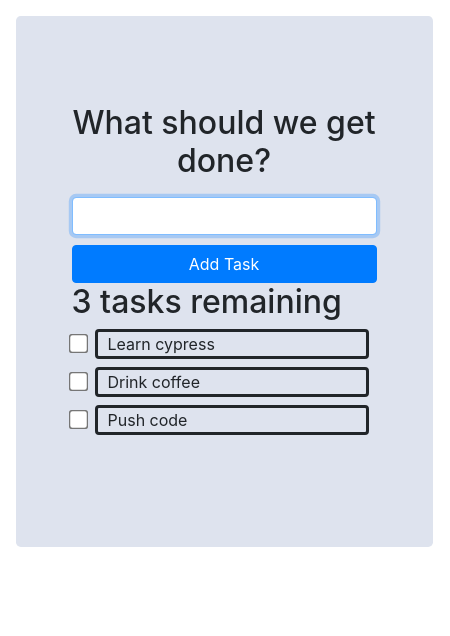
Test: The task list › check if you can edit a task inline
Click the label with test id "todo-label" showing "Learn cypress" at {"x": 161, "y": 344}, box [95,329,370,359]
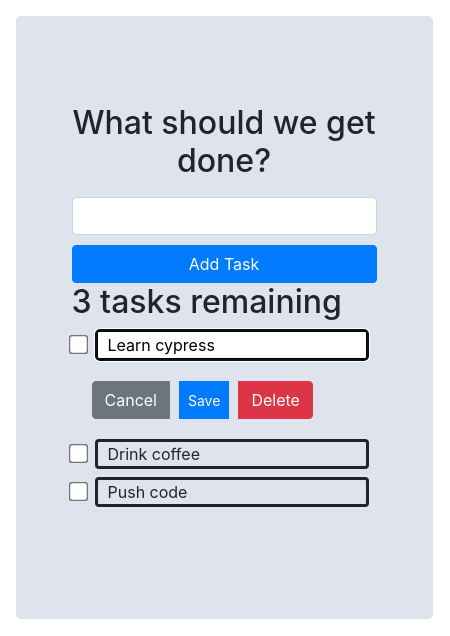
Replace the text in the field with test id "todo-text" with "a recently edited task" at {"x": 233, "y": 345}, box [95,329,370,361]
Then press Enter
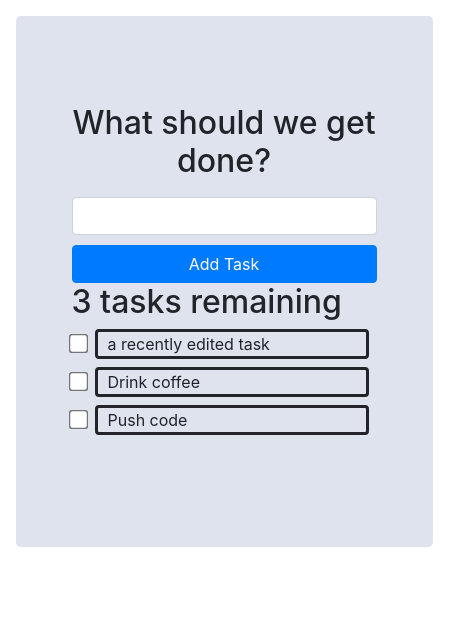
Check: the label with test id "todo-label" reads "a recently edited task", box [95,329,370,359]
